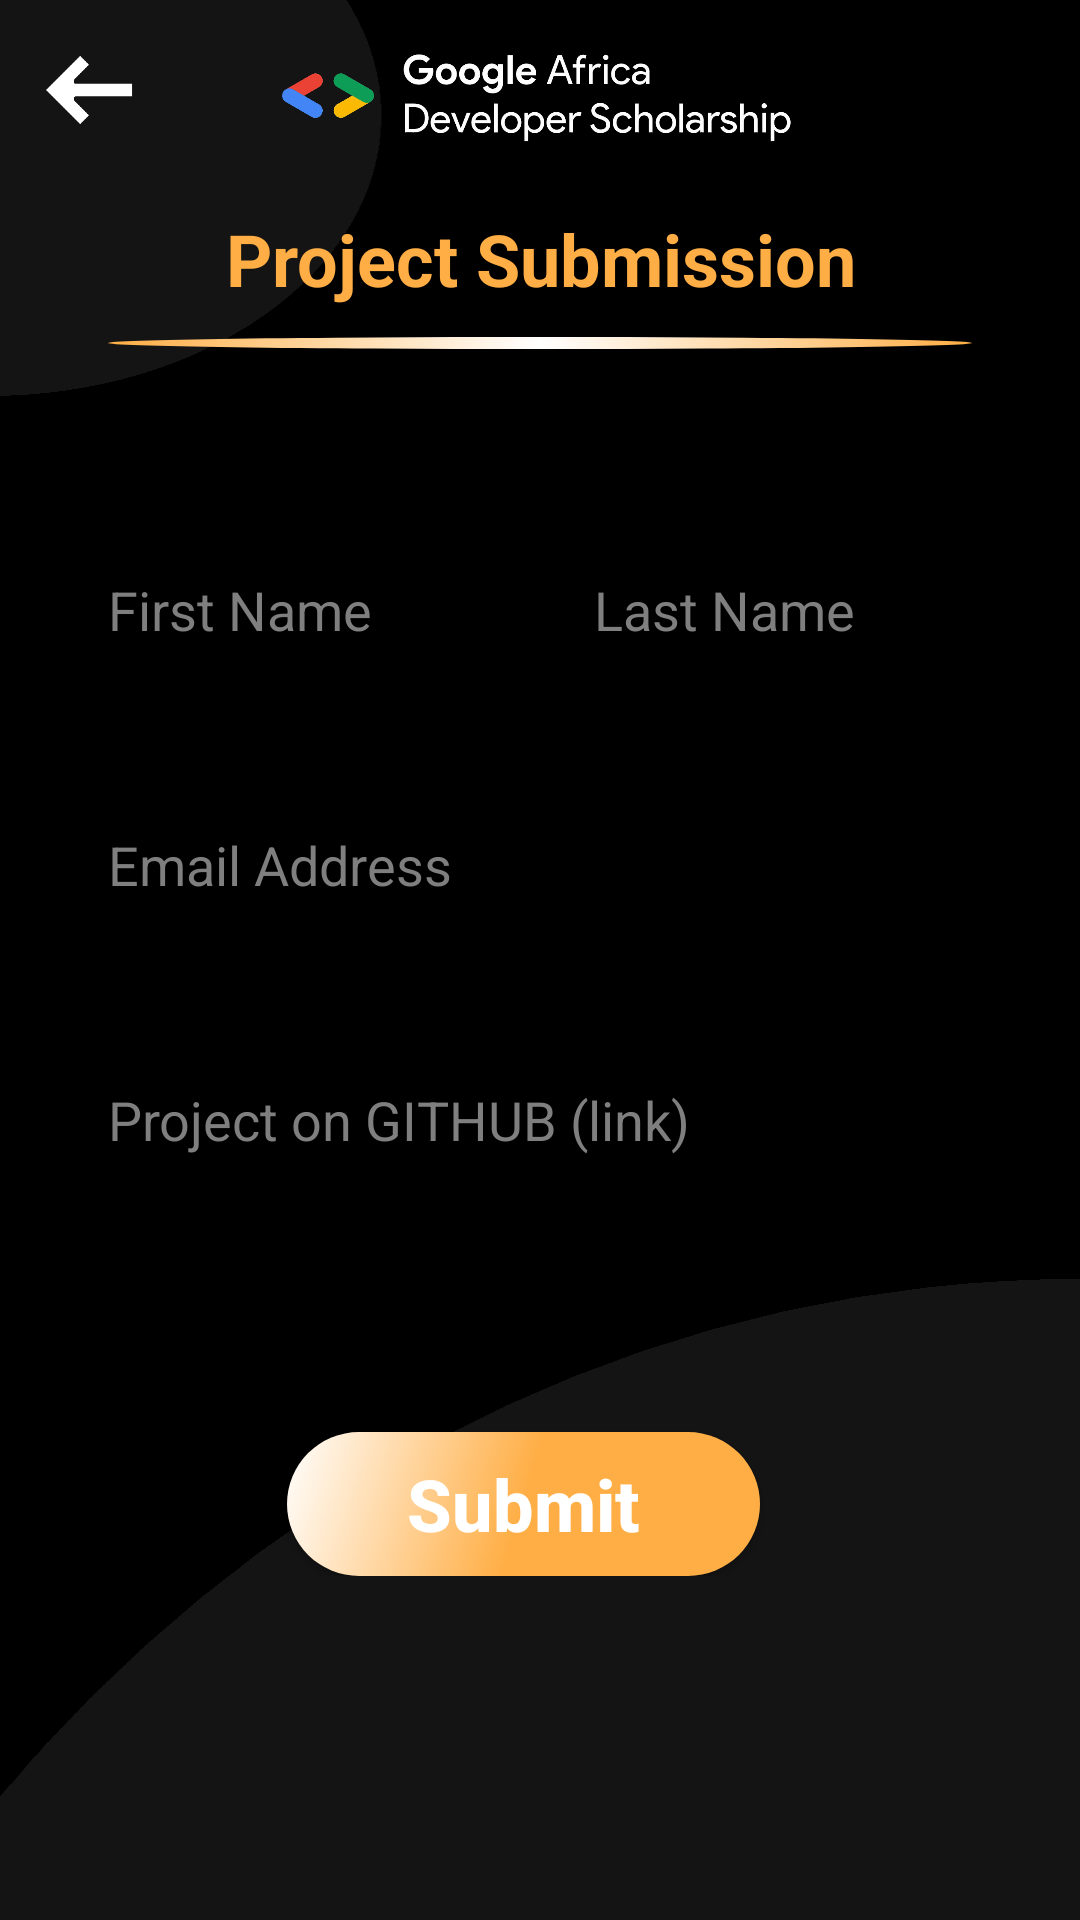

Point at icon controls on the screen. Image size 1080×1920, points as (x,y).
back: (89,90)
